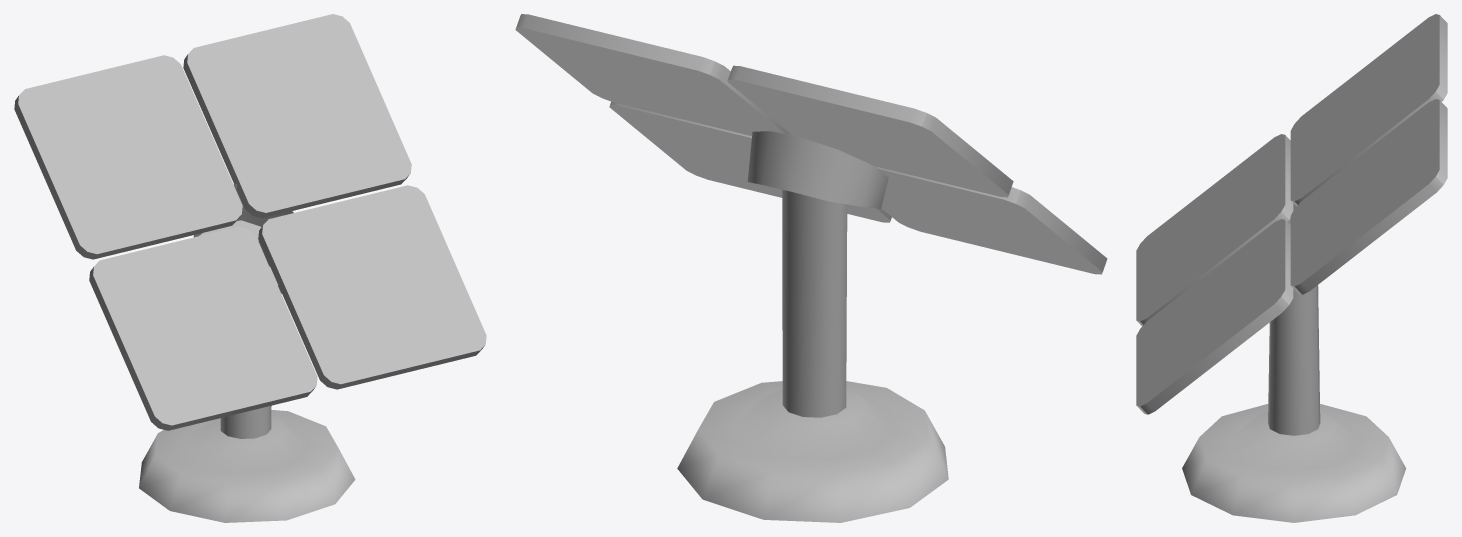
Rendered from KF_Kalonji_SM_Roof_SolarPanel_03.fbx.
3 views of the same model, side by side, from view 1: azimuth 30°, elevation 25°; view 2: azimuth 150°, elevation 25°; view 3: azimuth 270°, elevation 25° (orthographic). The views are drawn at different scales.
Visible parts, largest first — view 1: Panel, Stand, Steel; view 2: Panel, Stand, Steel; view 3: Panel, Stand, Steel.
Part boxes in pixels (x1,y1,x2,y2): Panel: [14, 14, 486, 430]; Stand: [139, 409, 355, 522]; Steel: [193, 184, 293, 438]; Panel: [515, 14, 1107, 274]; Stand: [677, 381, 948, 522]; Steel: [747, 131, 888, 417]; Panel: [1136, 14, 1447, 414]; Stand: [1182, 404, 1406, 522]; Steel: [1268, 203, 1320, 435].
Bounding box in the file's own units: 143 × 154 × 113.
